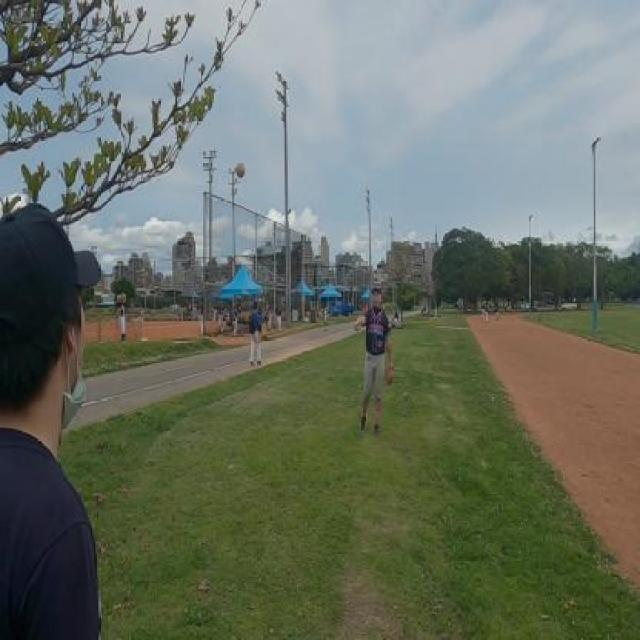baseball: (237, 160, 246, 178)
